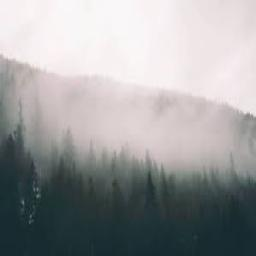Low smoke: (13, 64, 245, 180)
